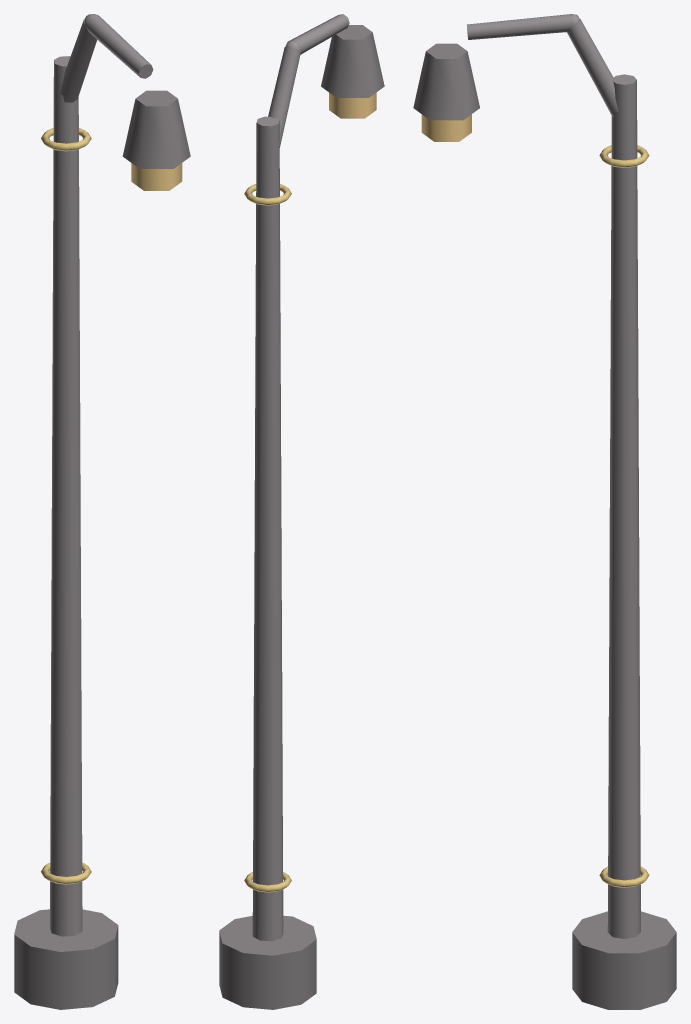
File: canal_lamp.glb
3 renders of one model, left to right at view 1: azimuth 30°, elevation 25°; view 2: azimuth 150°, elevation 25°; view 3: azimuth 270°, elevation 25°, orthographic. The views are drawn at different scales.
Visible parts, largest first — view 1: iron*1.2, iron, iron.001, iron*1.003, iron*1.001, lit, brass.001, brass; view 2: iron*1.2, iron, iron.001, iron*1.001, iron*1.003, lit, brass.001, brass; view 3: iron*1.2, iron, iron.001, iron*1.003, iron*1.001, lit.
Boxes of the visible parts, <box> form: iron*1.2: <box>50,56,82,936</box>; iron: <box>14,909,118,1009</box>; iron.001: <box>122,90,190,168</box>; iron*1.003: <box>84,14,153,78</box>; iron*1.001: <box>60,19,96,102</box>; lit: <box>131,163,182,190</box>; brass.001: <box>41,128,91,151</box>; brass: <box>41,862,91,884</box>; iron*1.2: <box>252,116,283,941</box>; iron: <box>219,915,316,1009</box>; iron.001: <box>321,25,384,97</box>; iron*1.001: <box>268,47,300,147</box>; iron*1.003: <box>288,14,349,54</box>; lit: <box>329,92,376,118</box>; brass.001: <box>244,184,291,205</box>; brass: <box>244,872,291,892</box>; iron*1.2: <box>607,74,640,938</box>; iron: <box>572,911,676,1009</box>; iron.001: <box>413,43,479,120</box>; iron*1.003: <box>467,14,571,39</box>; iron*1.001: <box>567,19,618,117</box>; lit: <box>421,114,471,141</box>.
Size of the model in its own units: 0.4755 by 5.14 by 1.26.
